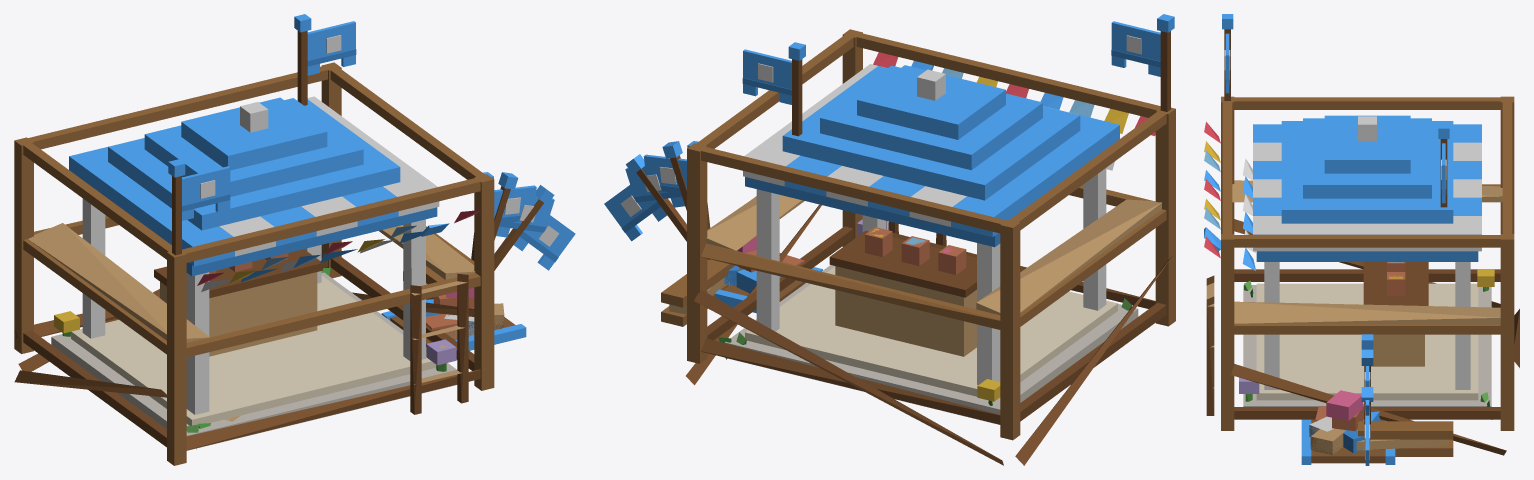
Rendered from butterfly-producer.glb.
3 renders of one model, left to right at view 1: azimuth 30°, elevation 25°; view 2: azimuth 150°, elevation 25°; view 3: azimuth 270°, elevation 25°, orthographic. The views are drawn at different scales.
Parts seen in each view (by area): view 1: scaffold-mesh, built-mesh, dismantle-75-mesh, dismantle-50-mesh, banner, scaffold-banner, dismantle-25-mesh, dismantle-25-banner, dismantle-50-banner, flag-pole, scaffold-flag-pole, dismantle-25-flag-pole (+2 smaller); view 2: scaffold-mesh, built-mesh, dismantle-75-mesh, dismantle-50-mesh, scaffold-banner, banner, dismantle-25-banner, dismantle-25-mesh, dismantle-50-banner, scaffold-flag-pole, flag-pole, dismantle-75-banner (+2 smaller); view 3: scaffold-mesh, built-mesh, dismantle-75-mesh, dismantle-50-mesh, dismantle-25-mesh, flag-pole, scaffold-flag-pole, scaffold-banner.
Boxes of the visible parts, bbox=[...] form: scaffold-mesh: bbox=[14, 62, 494, 465]; built-mesh: bbox=[51, 96, 456, 450]; dismantle-75-mesh: bbox=[69, 198, 526, 428]; dismantle-50-mesh: bbox=[51, 240, 525, 435]; banner: bbox=[307, 21, 356, 75]; scaffold-banner: bbox=[182, 166, 230, 220]; dismantle-25-mesh: bbox=[70, 279, 525, 428]; dismantle-25-banner: bbox=[514, 208, 575, 270]; dismantle-50-banner: bbox=[496, 194, 554, 242]; flag-pole: bbox=[294, 14, 311, 105]; scaffold-flag-pole: bbox=[168, 159, 185, 255]; dismantle-25-flag-pole: bbox=[494, 185, 554, 270]; scaffold-mesh: bbox=[661, 29, 1175, 465]; built-mesh: bbox=[718, 64, 1119, 424]; dismantle-75-mesh: bbox=[720, 161, 1138, 404]; dismantle-50-mesh: bbox=[715, 216, 1137, 409]; scaffold-banner: bbox=[1111, 21, 1160, 76]; banner: bbox=[742, 49, 791, 104]; dismantle-25-banner: bbox=[604, 178, 667, 241]; dismantle-25-mesh: bbox=[715, 219, 1138, 398]; dismantle-50-banner: bbox=[625, 163, 684, 212]; scaffold-flag-pole: bbox=[1157, 14, 1174, 111]; flag-pole: bbox=[788, 42, 805, 136]; dismantle-75-banner: bbox=[643, 154, 686, 194]; scaffold-mesh: bbox=[1204, 96, 1519, 456]; built-mesh: bbox=[1242, 115, 1489, 406]; dismantle-75-mesh: bbox=[1242, 158, 1492, 464]; dismantle-50-mesh: bbox=[1243, 265, 1491, 464]; dismantle-25-mesh: bbox=[1239, 280, 1489, 464]; flag-pole: bbox=[1438, 123, 1449, 207]; scaffold-flag-pole: bbox=[1222, 14, 1233, 100]; scaffold-banner: bbox=[1224, 33, 1230, 93].
Size of the model in its own units: 2.69 by 1.73 by 1.65.
